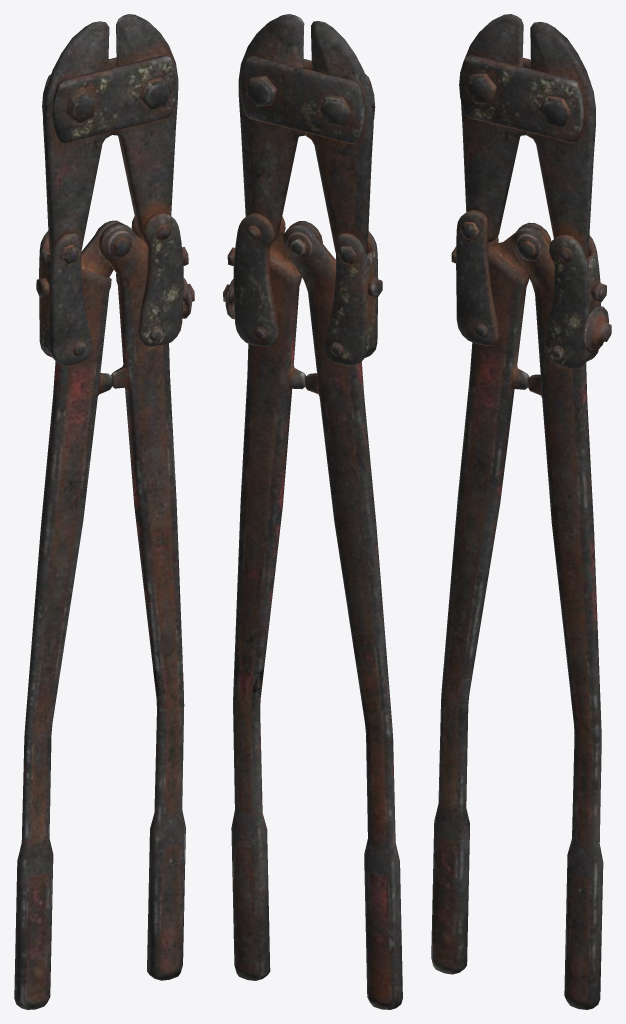
File: bolt-cutters.glb
3 renders of one model, left to right at view 1: azimuth 30°, elevation 25°; view 2: azimuth 150°, elevation 25°; view 3: azimuth 330°, elevation 25°, orthographic.
Parts seen in each view (by area): view 1: bolt_cutters_01; view 2: bolt_cutters_01; view 3: bolt_cutters_01.
Boxes of the visible parts, x1,y1,x2,y2 form: bolt_cutters_01: (14, 14, 194, 1009); bolt_cutters_01: (223, 14, 402, 1009); bolt_cutters_01: (431, 14, 611, 1009).
Bounding box in the file's own units: 0.151 × 0.8026 × 0.036.
1 material, 1 textured.
